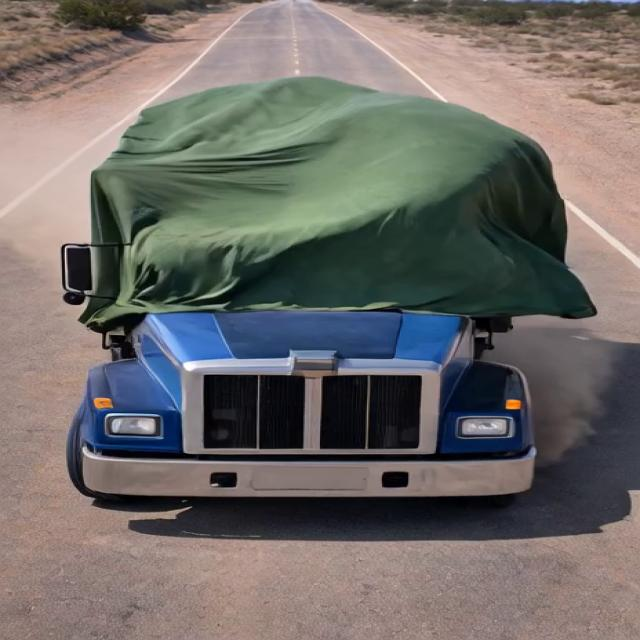trailer: (110, 75, 536, 247)
truck: (42, 54, 584, 512)
